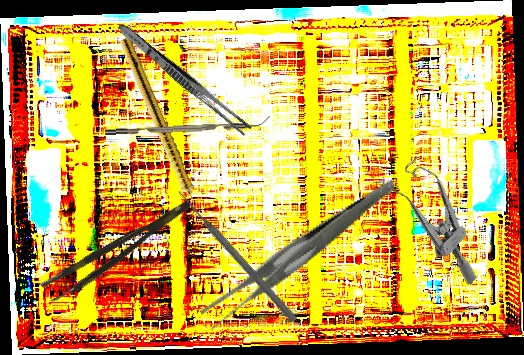Chopper: (104, 116, 271, 135)
Dressing Forceps: (180, 179, 419, 332), (114, 19, 254, 138)
Handpiece: (115, 36, 205, 218)
Pusher: (173, 186, 300, 325)
Speculum: (365, 146, 512, 287)
Tissue Forceps: (39, 198, 199, 306)
